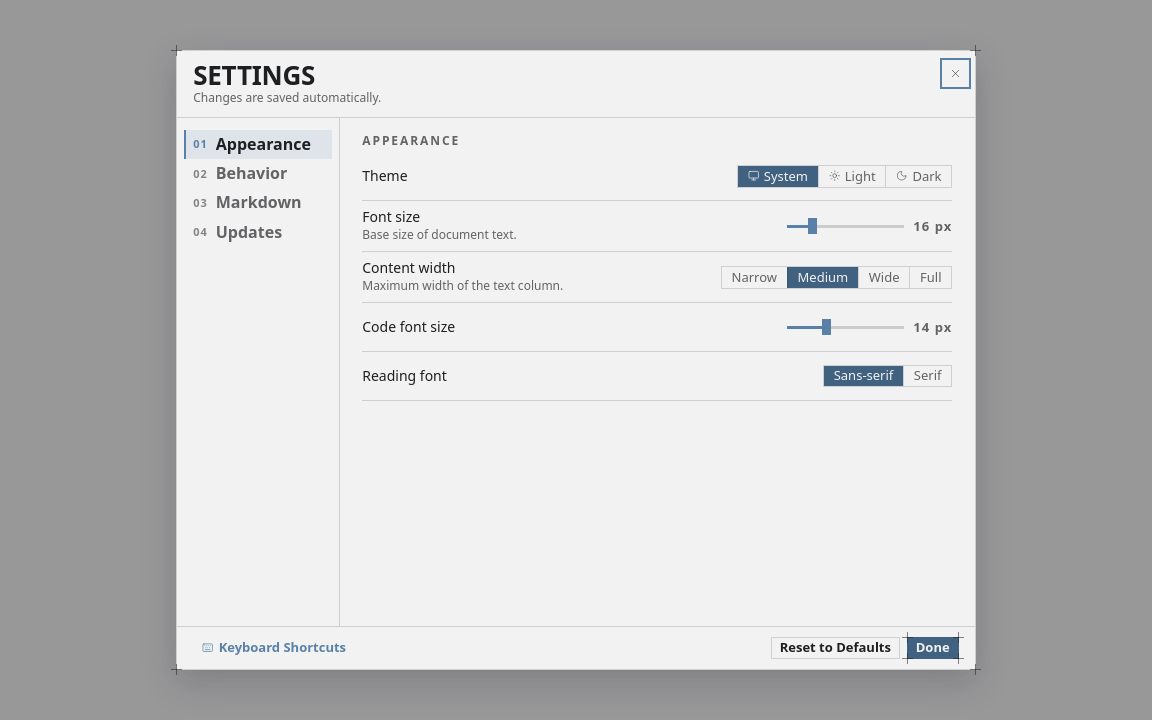
Test: SettingsDialog › lists the numbered sections and shows one pane at a time
The image size is (1152, 720).
expect the dialog "Settings" is shown: met, box [176, 50, 976, 670]
expect the panel "Appearance" is shown: met, box [362, 132, 952, 401]
Click the tab "02 Behavior" at (258, 174), box [184, 159, 332, 188]
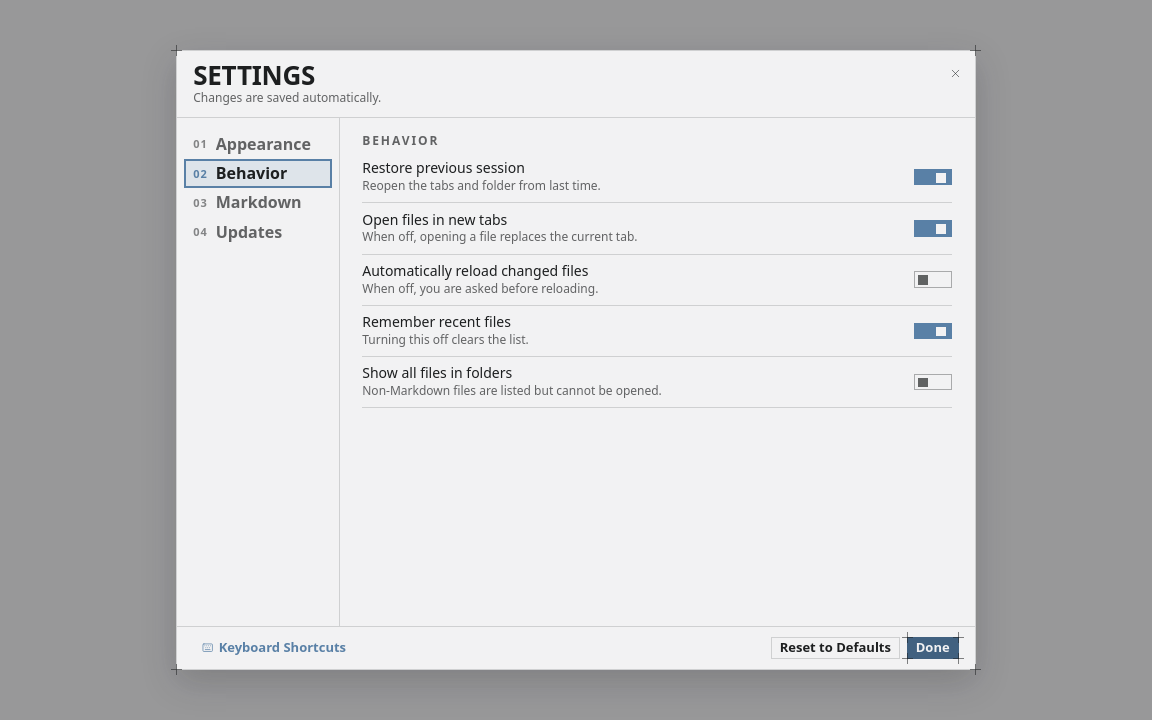
expect the switch named "Restore previous session" in the row of "Restore previous session" is shown: met, box [914, 169, 952, 186]
expect the text "Theme" is gone: met
Click the tab "03 Markdown" at (258, 203), box [184, 188, 332, 218]
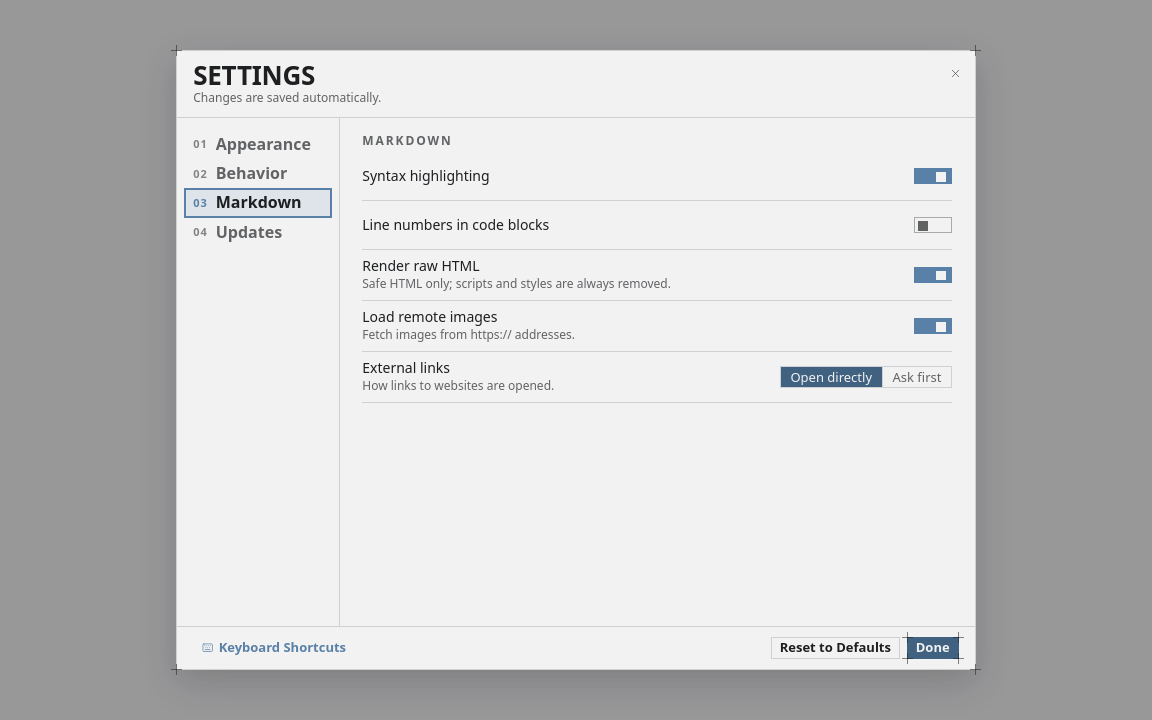
expect the heading "Markdown" is shown: met, box [362, 132, 453, 149]
Click the tab "04 Updates" at (258, 232), box [184, 218, 332, 247]
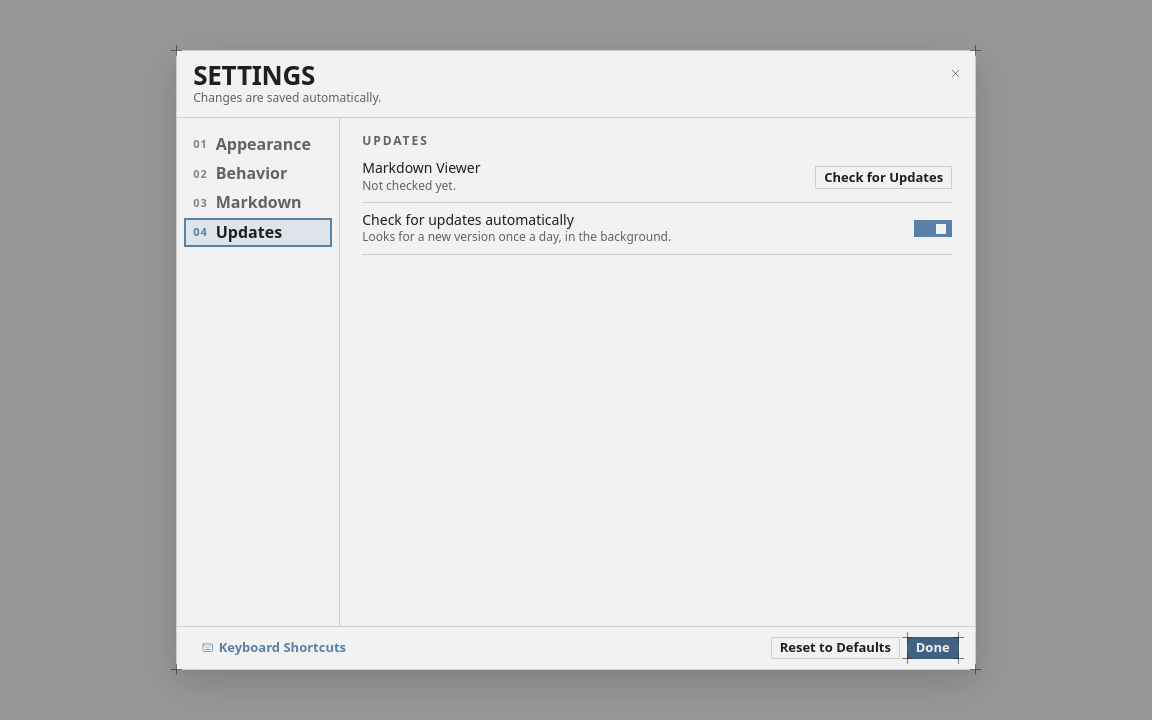
expect the heading "Updates" is shown: met, box [362, 132, 429, 149]
